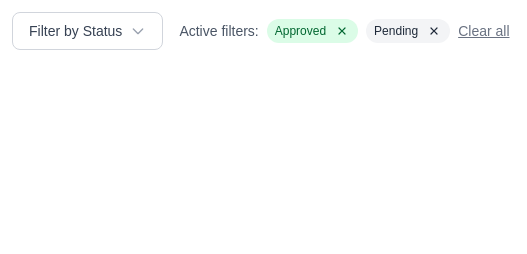
Test: StatusFilter › shows correct checkboxes as checked when statuses are selected
Click the button "Filter by Status". click: click(88, 31)
box: [12,12,163,50]
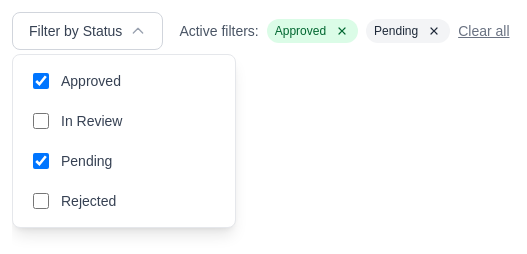
Expected: the checkbox labelled "Approved" is checked, [33,73,49,89]
Expected: the checkbox labelled "Pending" is checked, [33,153,49,169]
Expected: the checkbox labelled "In Review" is not checked, [33,113,49,129]
